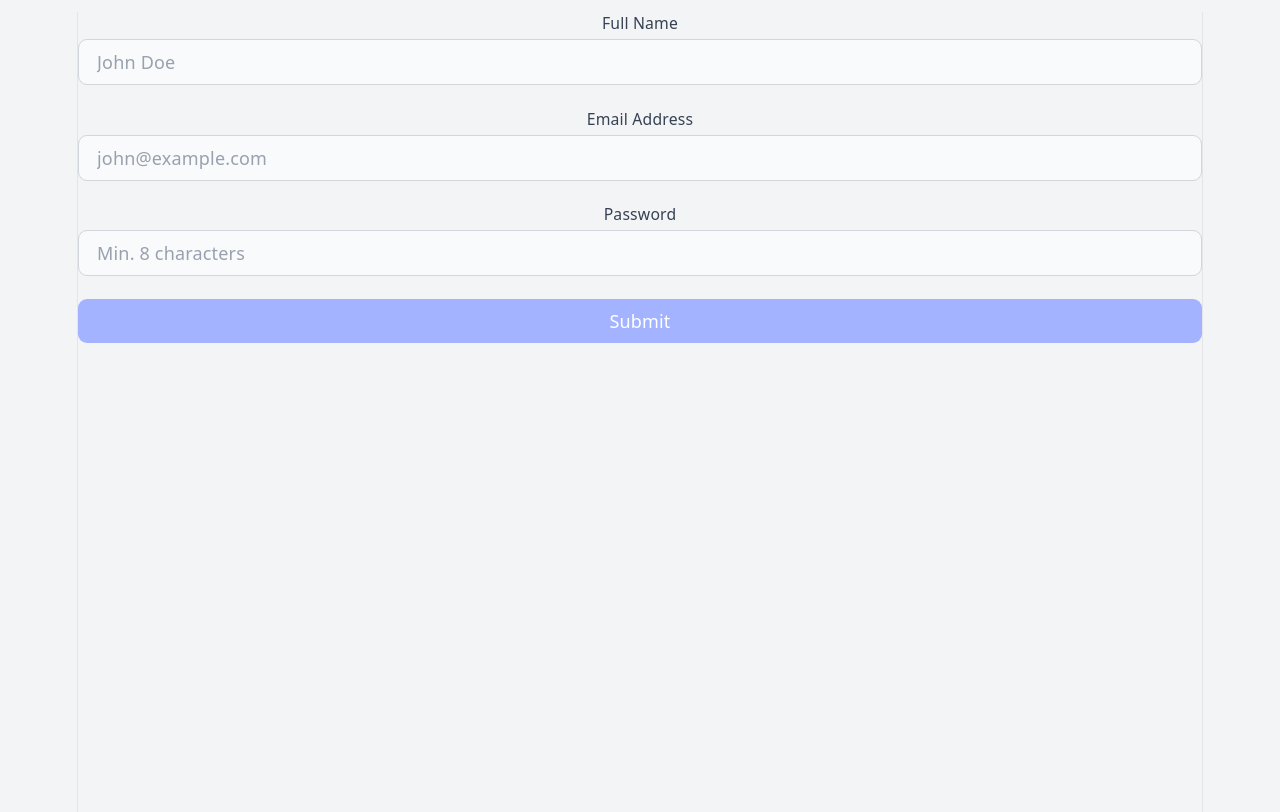
Test: FormValidation — required field errors › shows email error after leaving email field empty
The width and height of the screenshot is (1280, 812).
Click the field labelled "Email Address": x=640, y=158 [78,135,1202,181]
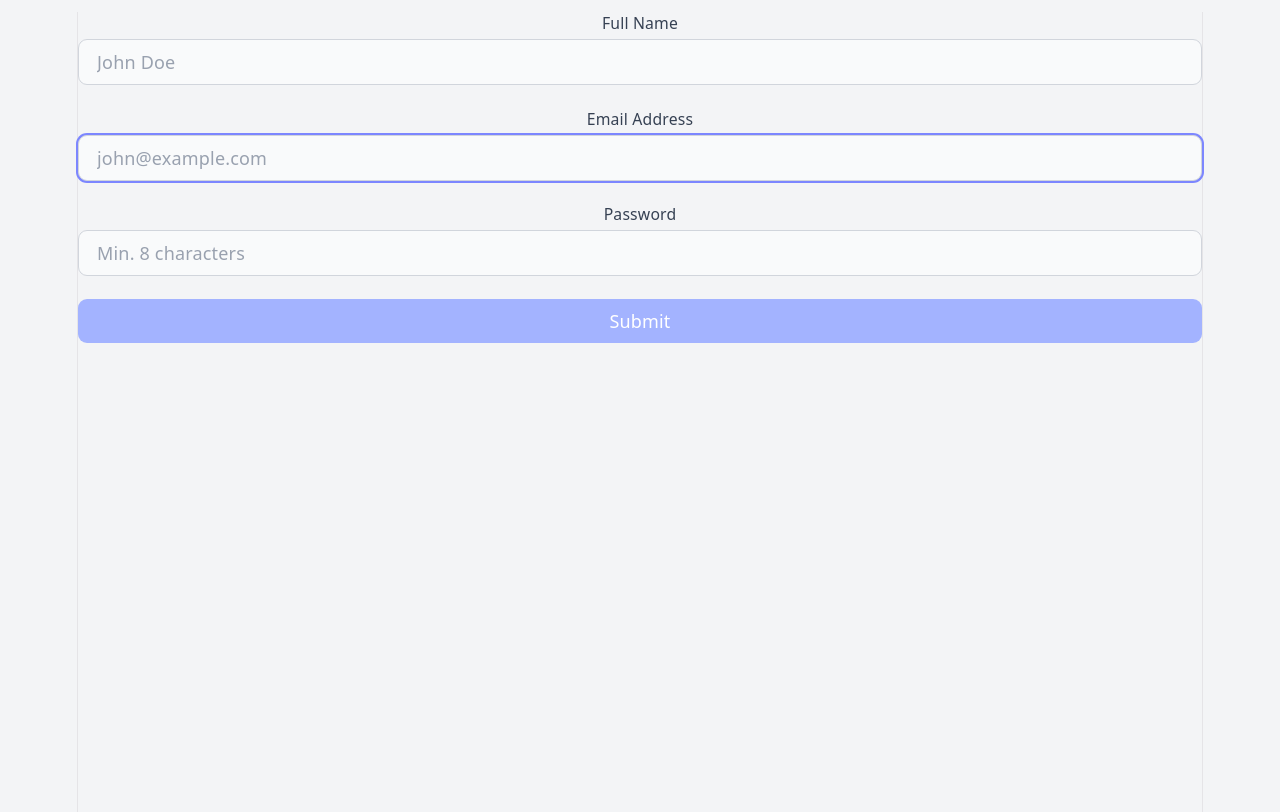
Press Tab
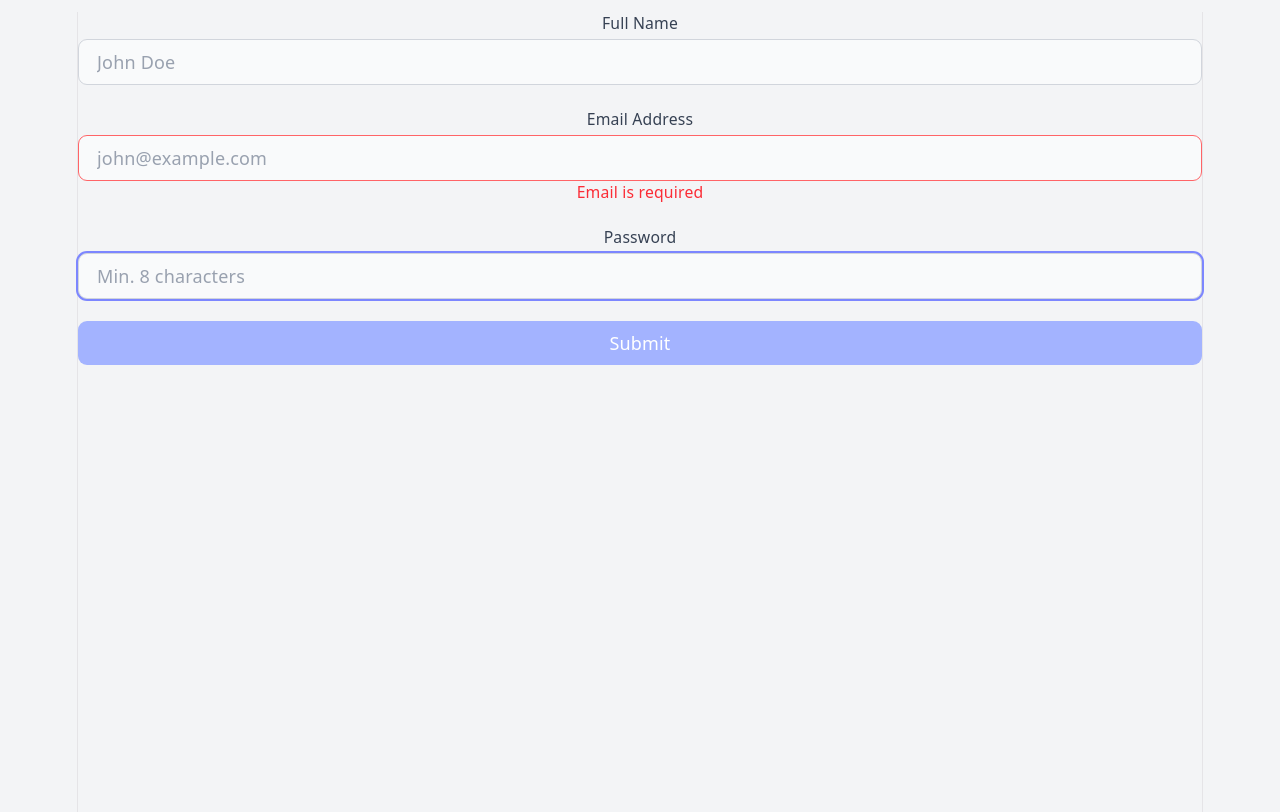
Expected: the message reads "Email is required", [577,181,703,203]
